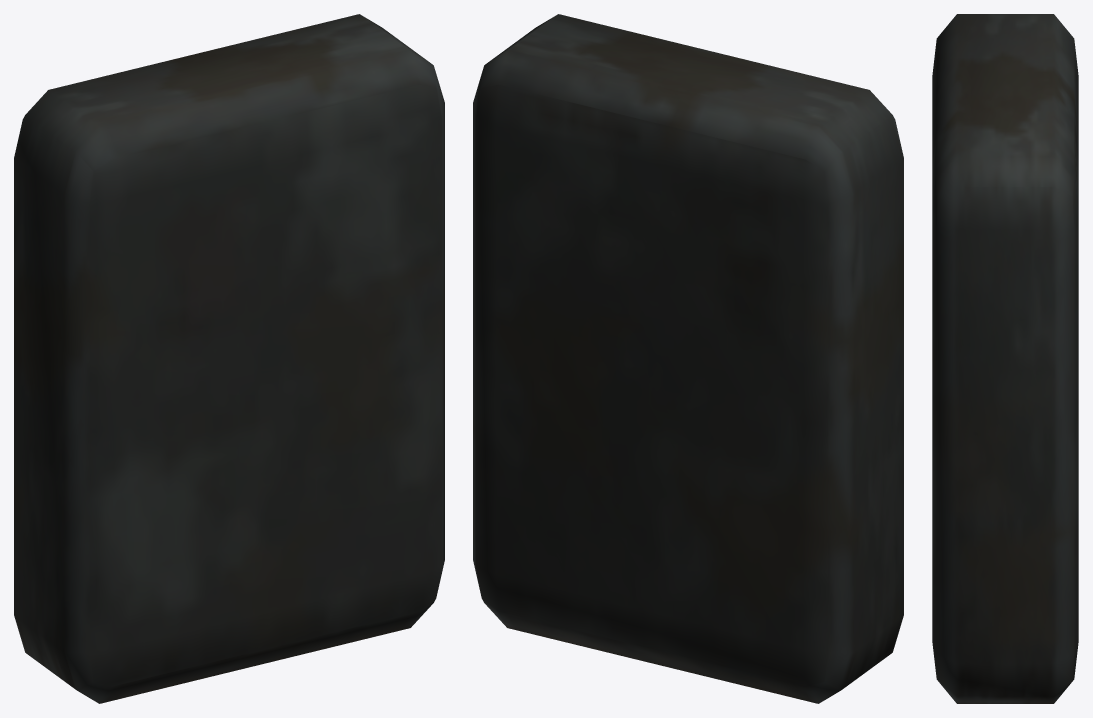
Rendered from Body1.gltf.
3 views of the same model, side by side, from view 1: azimuth 30°, elevation 25°; view 2: azimuth 150°, elevation 25°; view 3: azimuth 270°, elevation 25° (orthographic). The views are drawn at different scales.
Parts seen in each view (by area): view 1: CabelHolder; view 2: CabelHolder; view 3: CabelHolder.
Part boxes in pixels (<box>): CabelHolder: <box>14,14,444,703</box>; CabelHolder: <box>473,14,903,703</box>; CabelHolder: <box>932,14,1078,703</box>.
Bounding box in the file's own units: 0.427 × 0.6197 × 0.1504.
1 material, 1 textured.
